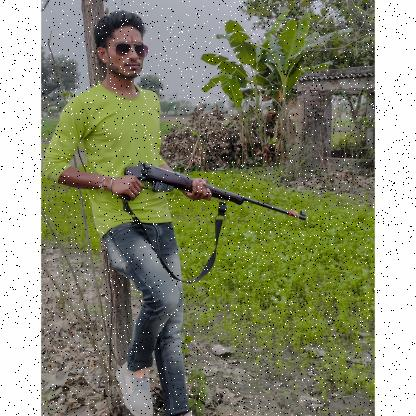rifle: (117, 161, 307, 222)
